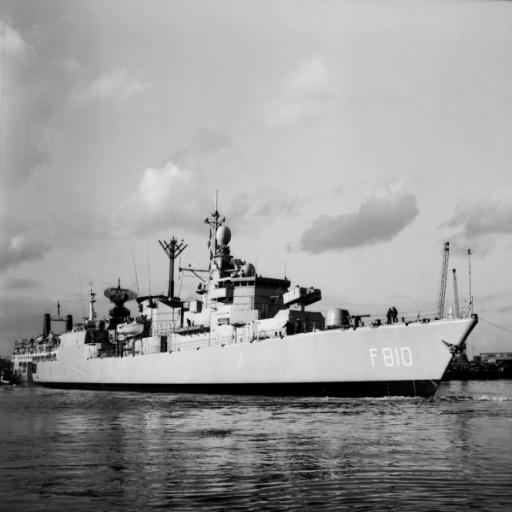Fragata: (14, 192, 483, 402)
